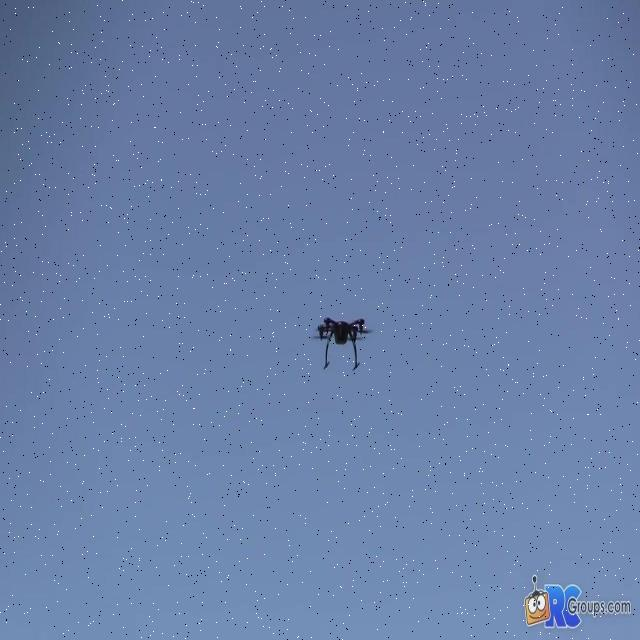UAV: (311, 317, 375, 371)
